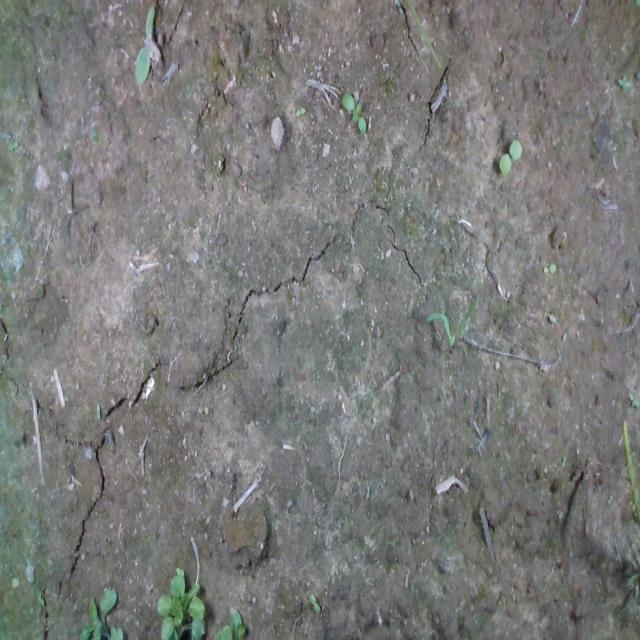weed: (339, 88, 377, 133), (498, 137, 524, 174), (540, 261, 558, 275)
